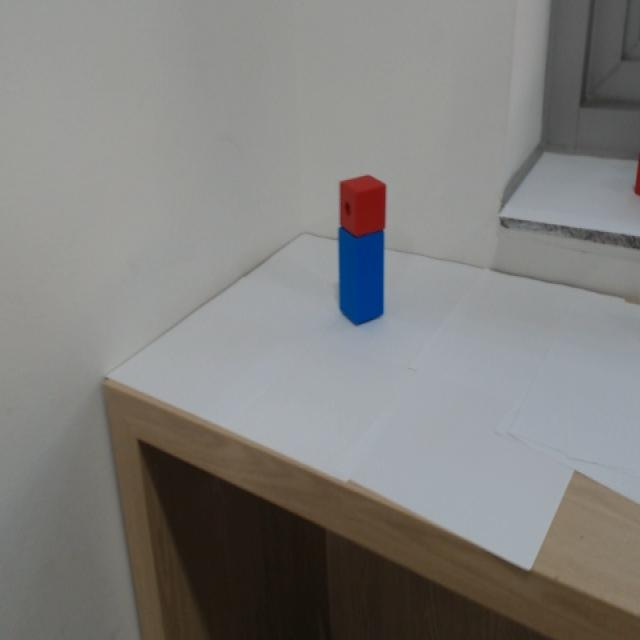cube: (334, 164, 399, 241)
